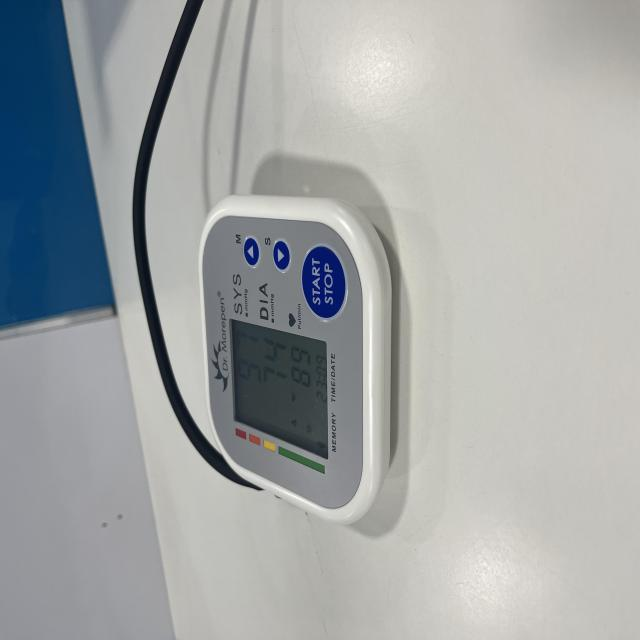bp: (198, 195, 395, 527)
